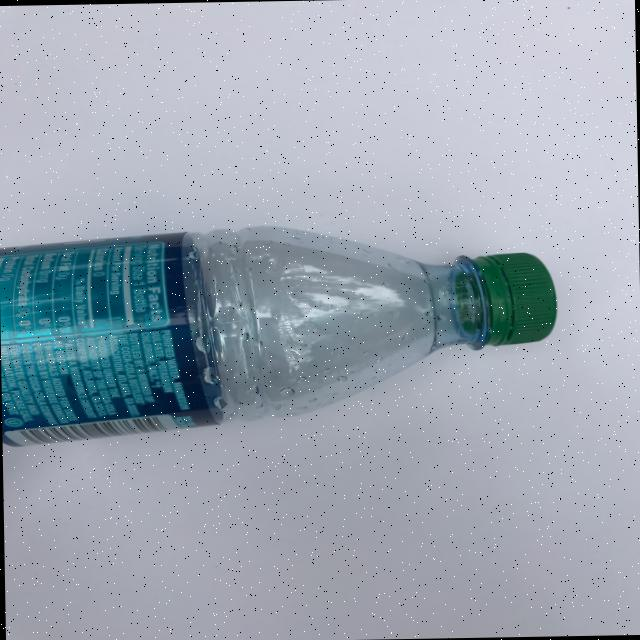plastic: (0, 218, 559, 447)
